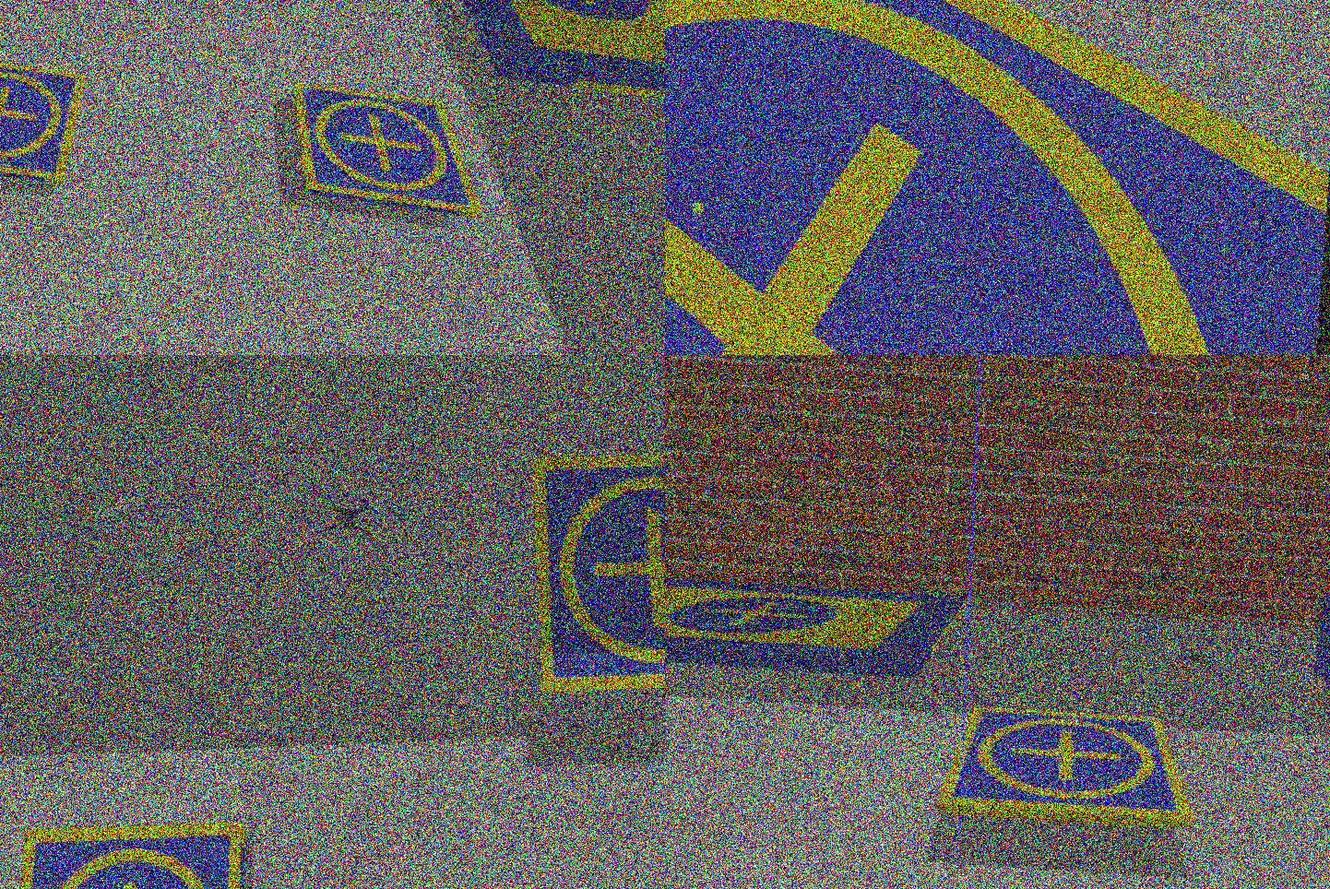large_base: (666, 558, 968, 682), (400, 1, 666, 101)
small_base: (666, 1, 1330, 356), (517, 435, 666, 716), (938, 703, 1205, 834), (285, 80, 491, 222), (11, 813, 256, 889), (1, 50, 86, 189)
